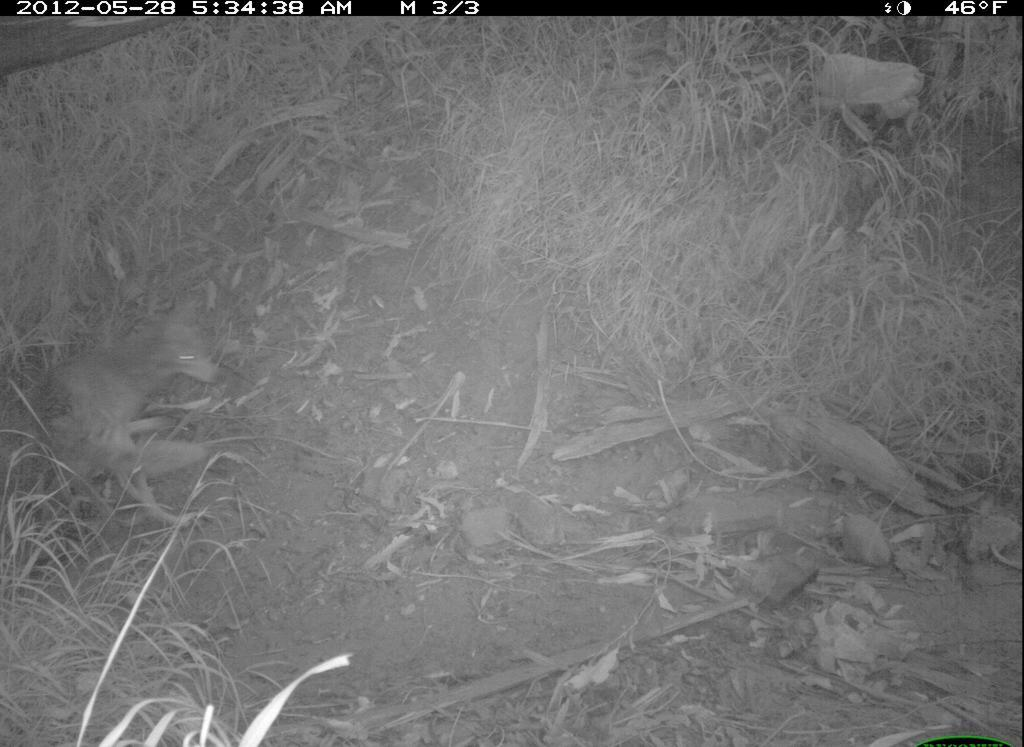coyote: (7, 286, 227, 552)
